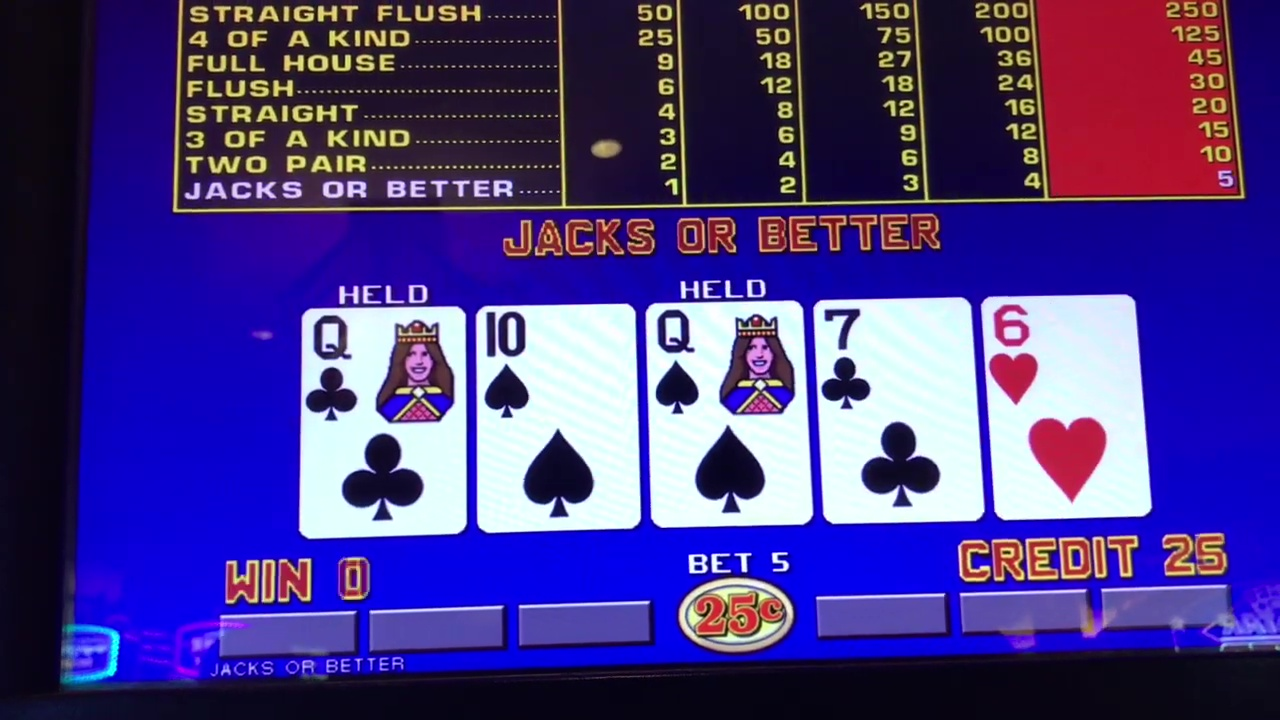C7: (819, 300, 975, 521)
CQ: (303, 305, 463, 532)
H6: (992, 298, 1136, 514)
SQ: (651, 302, 805, 527)
ST: (482, 308, 632, 523)
